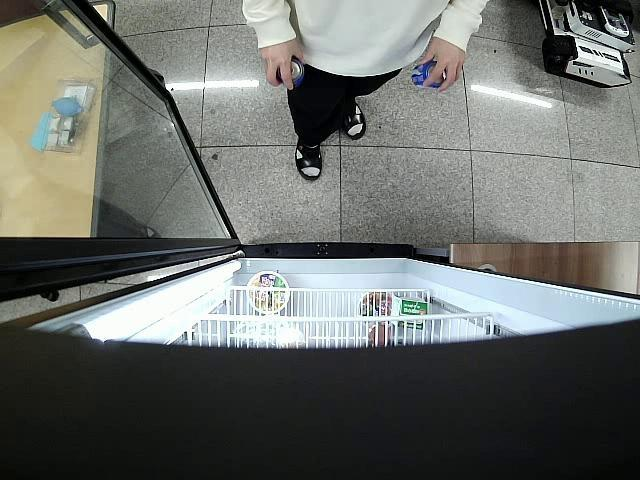13_pocariSweat: (276, 59, 305, 92), (412, 62, 442, 89)
